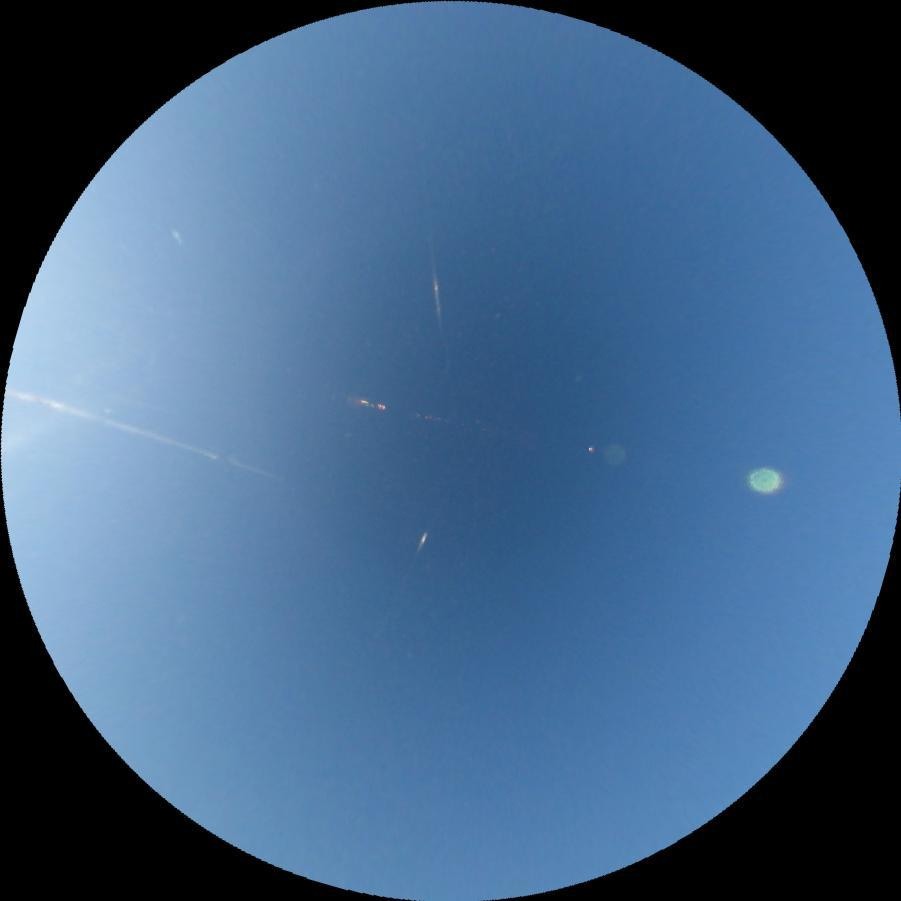parasite: (2, 384, 293, 484), (429, 262, 443, 329), (415, 530, 428, 553)
